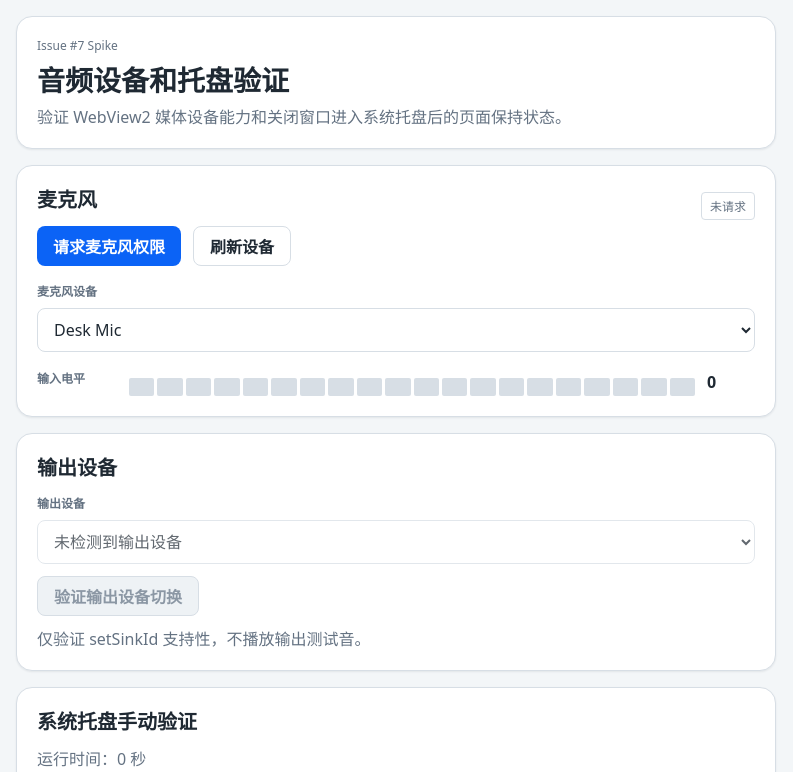
it: DeviceTraySpike › stops a newly granted stream when the input level meter cannot be created
Click the button "请求麦克风权限": (109, 246) [37, 226, 181, 266]
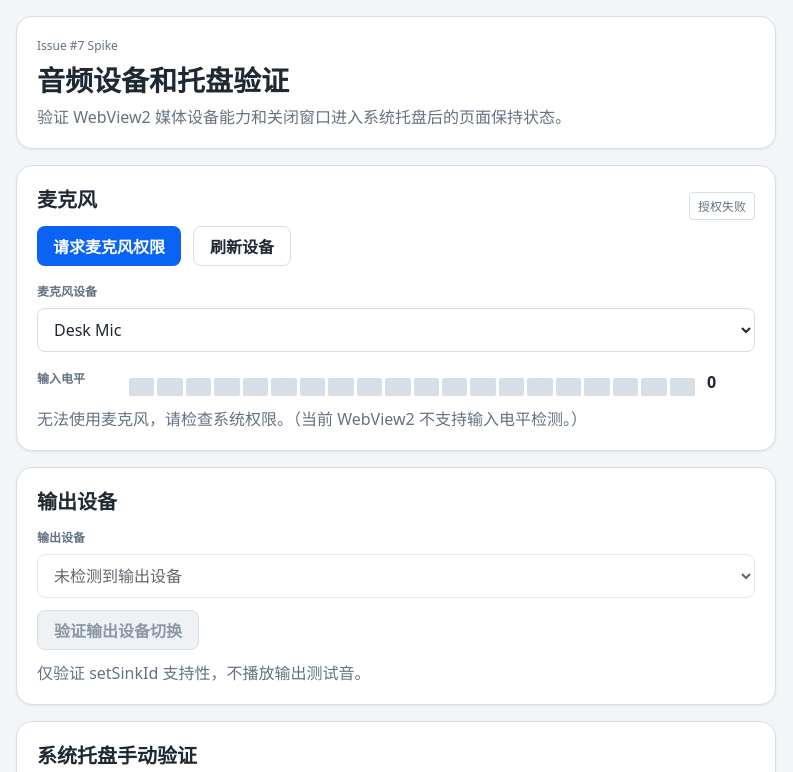
Check: the text "无法使用麦克风，请检查系统权限。（当前 WebView2 不支持输入电平检测。）" is shown, box [37, 408, 587, 430]
Check: the text "授权失败" is shown, box [689, 192, 755, 220]
